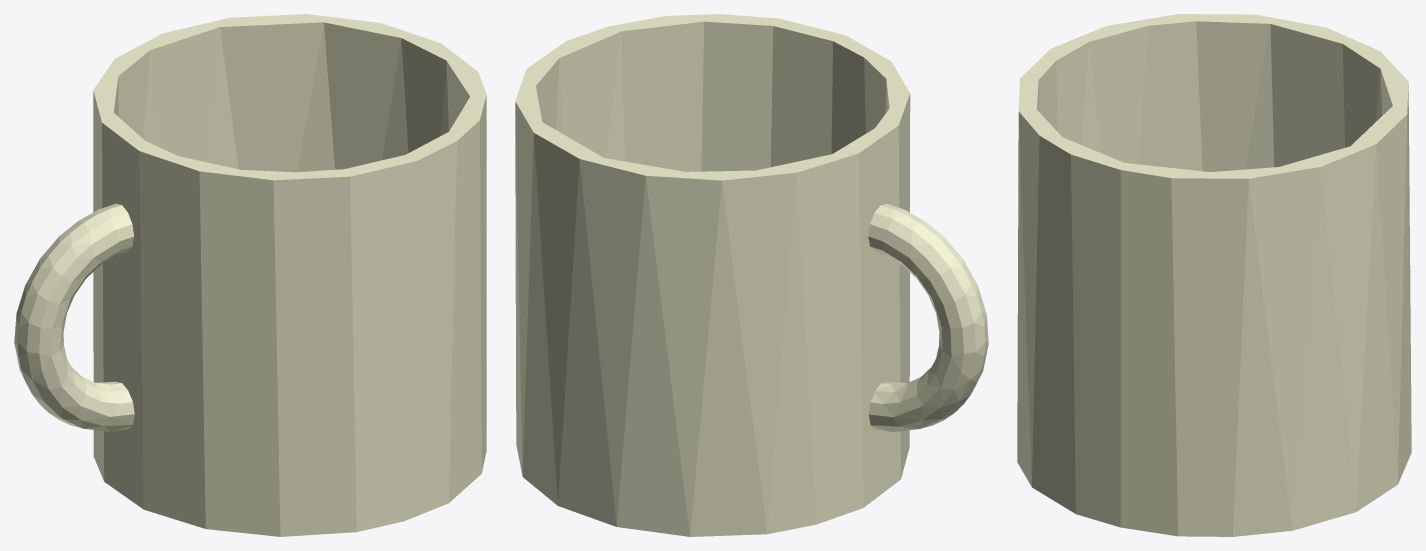
The model's file is Kubek.fbx.
3 renders of one model, left to right at view 1: azimuth 30°, elevation 25°; view 2: azimuth 150°, elevation 25°; view 3: azimuth 270°, elevation 25°, orthographic.
Visible parts, largest first — view 1: Walec; view 2: Walec; view 3: Walec.
Part boxes in pixels (<box>): Walec: <box>14,14,486,536</box>; Walec: <box>515,14,988,536</box>; Walec: <box>1017,14,1411,536</box>.
Size of the model in its own units: 259 by 200 by 200.
